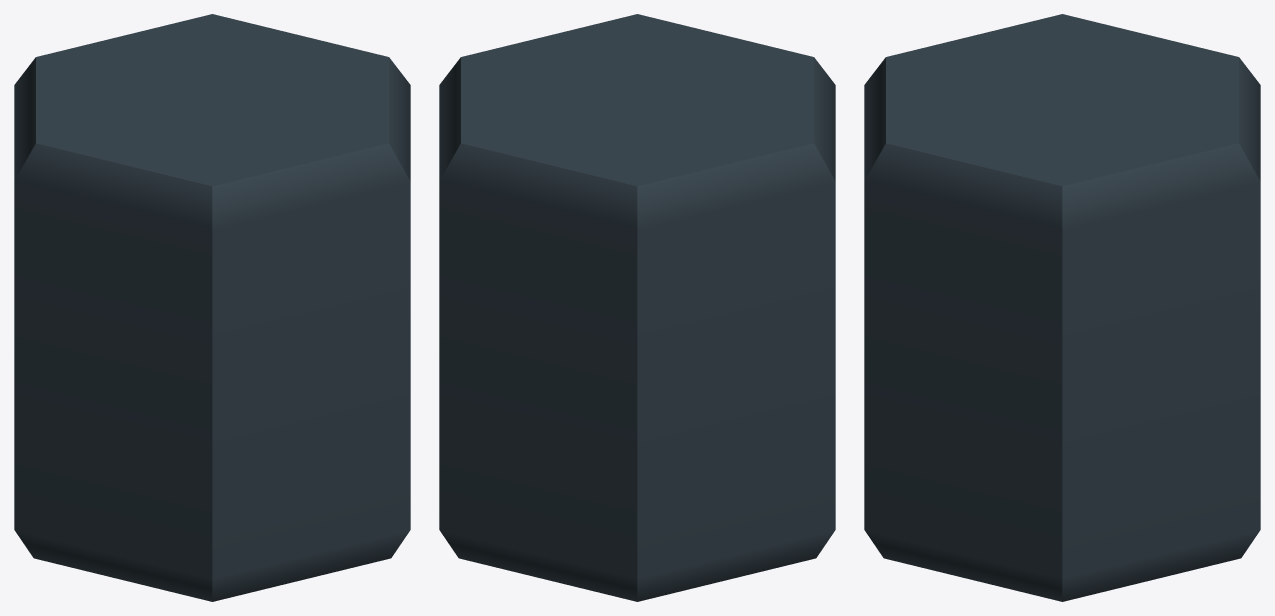
The model's file is column_beveled.FBX.
The picture shows the model from 3 angles, left to right: view 1: azimuth 30°, elevation 25°; view 2: azimuth 150°, elevation 25°; view 3: azimuth 270°, elevation 25°; orthographic projection.
Visible parts, largest first — view 1: pCylinder2; view 2: pCylinder2; view 3: pCylinder2.
Part boxes in pixels (<box>): pCylinder2: <box>14,14,410,601</box>; pCylinder2: <box>439,14,835,601</box>; pCylinder2: <box>864,14,1260,601</box>.
Bounding box in the file's own units: 1 × 1 × 0.866.
